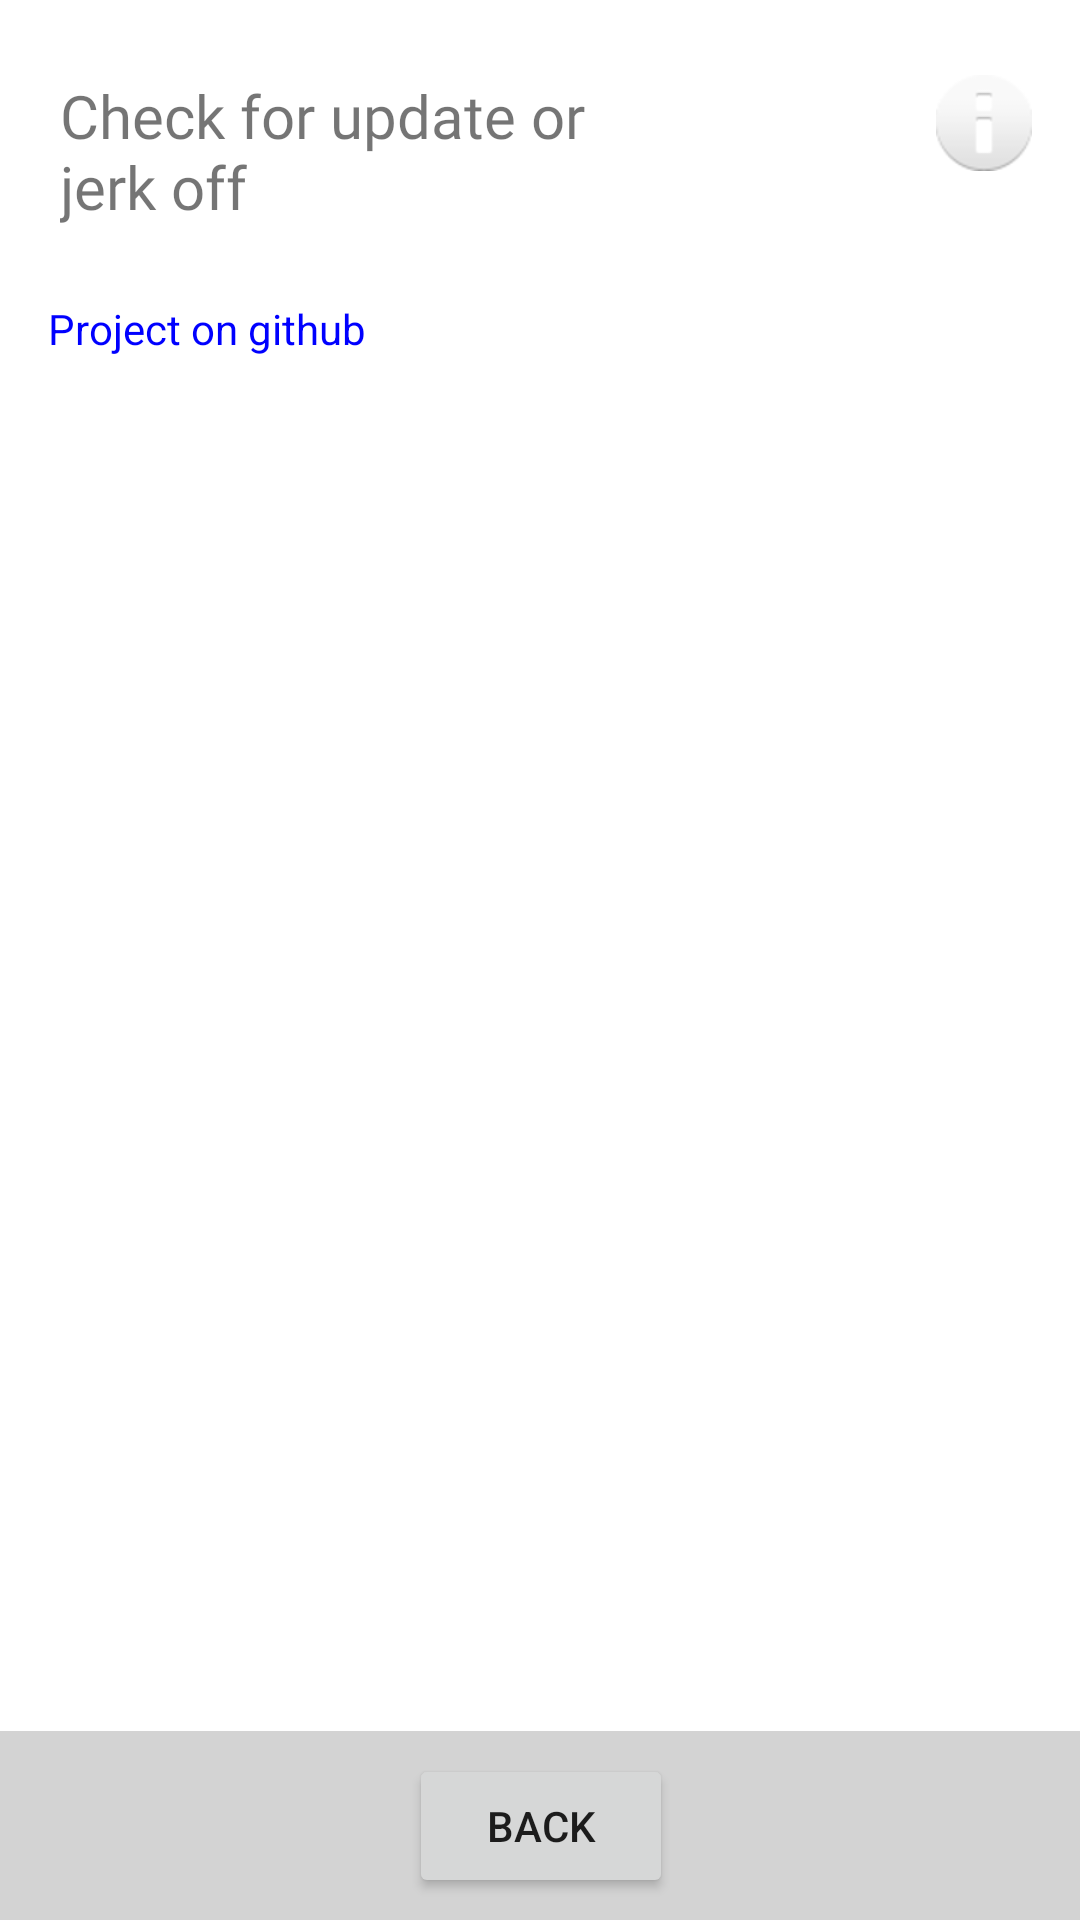

Locate icon controls on the screen. Image size 1080 x 1920, boxes as (x1, y1, x2, y2).
info: (936, 93, 1032, 171)
